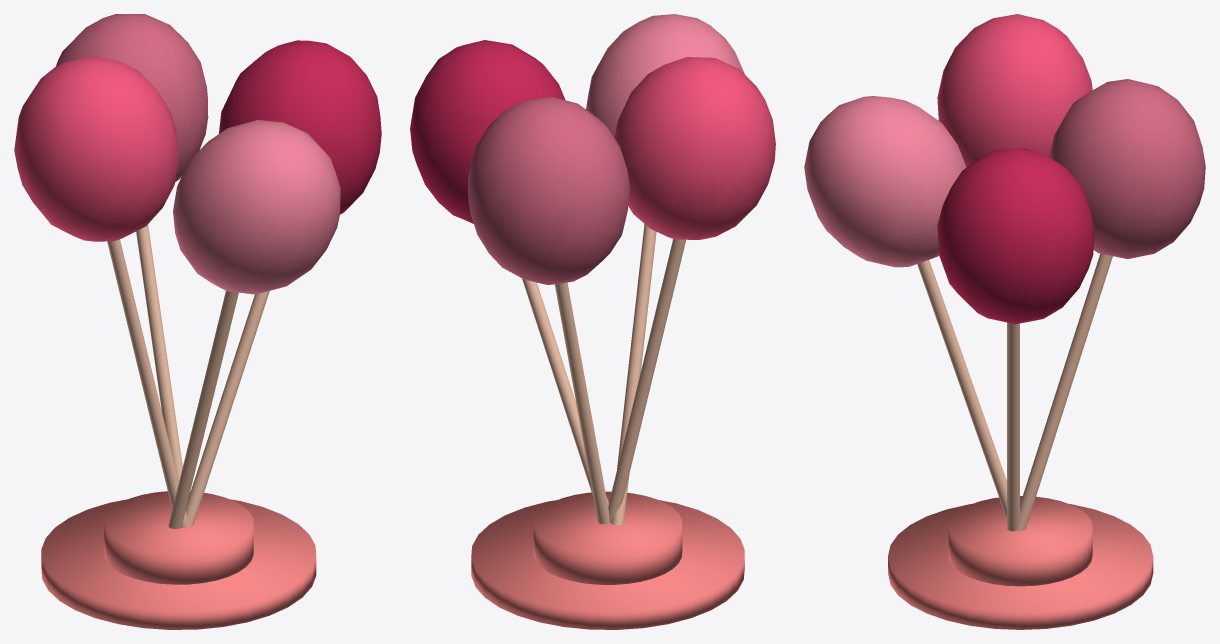
Rendered from balony.gltf.
The picture shows the model from 3 angles, left to right: view 1: azimuth 30°, elevation 25°; view 2: azimuth 150°, elevation 25°; view 3: azimuth 270°, elevation 25°; orthographic projection. The views are drawn at different scales.
Parts seen in each view (by area): view 1: Sphere.001, Sphere.003, Circle.004, Sphere, Circle.005, Sphere.002, Cylinder.006, Cylinder.007, Cylinder.005, Cylinder; view 2: Sphere.002, Sphere.001, Circle.004, Sphere, Circle.005, Sphere.003, Cylinder.006, Cylinder, Cylinder.007, Cylinder.005; view 3: Sphere, Sphere.003, Sphere.002, Circle.004, Sphere.001, Circle.005, Cylinder, Cylinder.007, Cylinder.005.
Part boxes in pixels (x1,y1,x2,y2): Sphere.001: [14, 56, 178, 241]; Sphere.003: [173, 120, 340, 294]; Circle.004: [41, 499, 316, 629]; Sphere: [219, 40, 381, 214]; Circle.005: [104, 491, 253, 584]; Sphere.002: [56, 14, 208, 182]; Cylinder.006: [107, 239, 187, 527]; Cylinder.007: [168, 291, 238, 528]; Cylinder.005: [186, 291, 269, 526]; Cylinder: [136, 224, 182, 481]; Sphere.002: [467, 96, 629, 284]; Sphere.001: [614, 57, 775, 239]; Circle.004: [471, 500, 744, 629]; Sphere: [410, 40, 565, 223]; Circle.005: [533, 491, 682, 584]; Sphere.003: [586, 14, 744, 137]; Cylinder.006: [608, 239, 685, 522]; Cylinder: [554, 282, 609, 524]; Cylinder.007: [611, 224, 656, 525]; Cylinder.005: [522, 278, 608, 506]; Sphere: [937, 148, 1094, 324]; Sphere.003: [804, 96, 966, 267]; Sphere.002: [1049, 79, 1205, 258]; Circle.004: [888, 504, 1153, 629]; Sphere.001: [937, 14, 1092, 167]; Circle.005: [948, 496, 1092, 586]; Cylinder: [1016, 253, 1112, 530]; Cylinder.007: [917, 260, 1006, 518]; Cylinder.005: [1007, 322, 1019, 531].
Bounding box in the file's own units: 2.08 × 3.06 × 2.17.
Materials: 1 (1 with a texture image).
